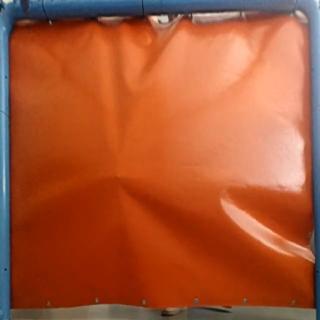Hit-hRxx: (110, 170, 126, 184)
